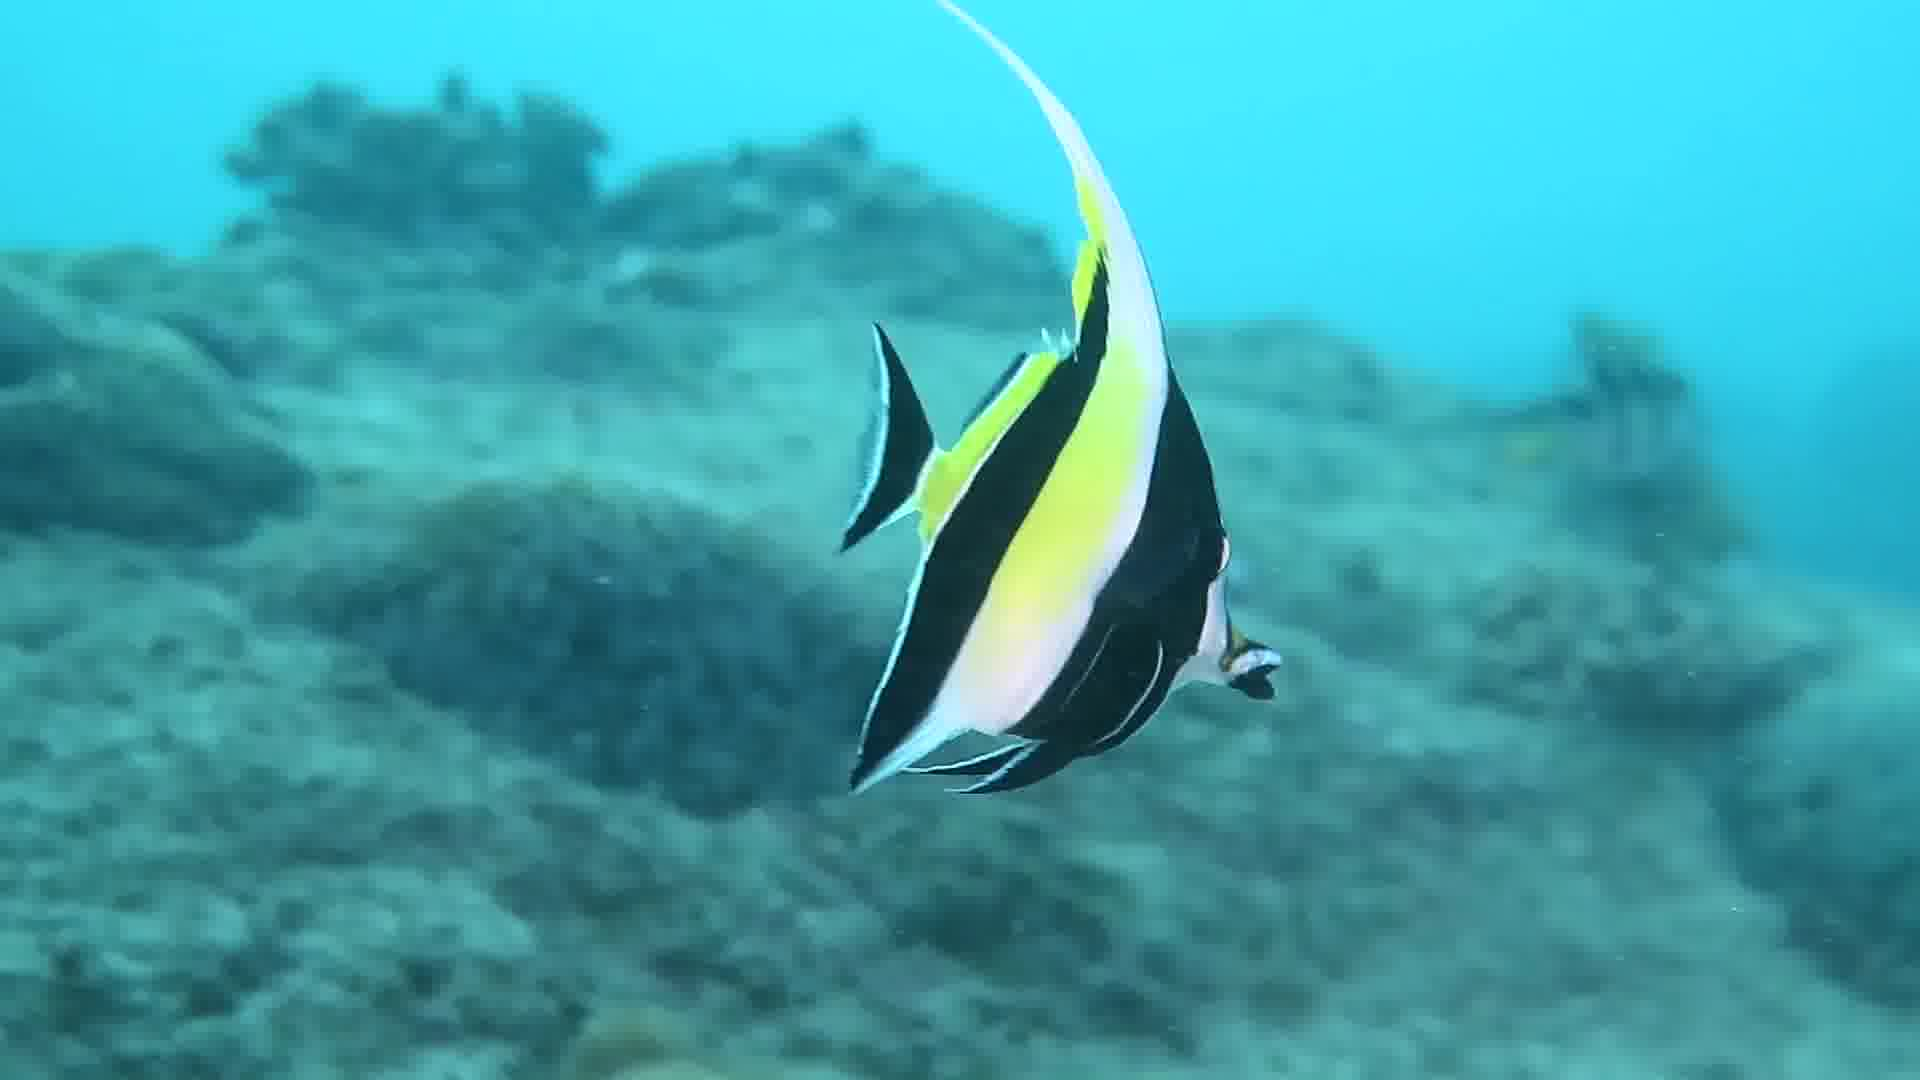Zanclus cornutus: (785, 1, 1319, 876)
